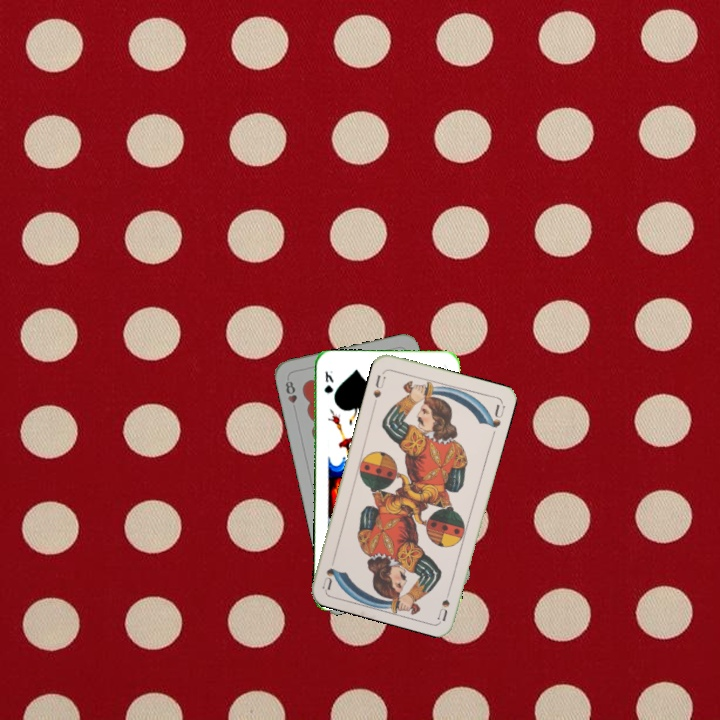GK: (320, 367, 336, 396)
H8: (281, 377, 300, 414)
SU: (434, 582, 454, 622), (369, 367, 388, 407)
